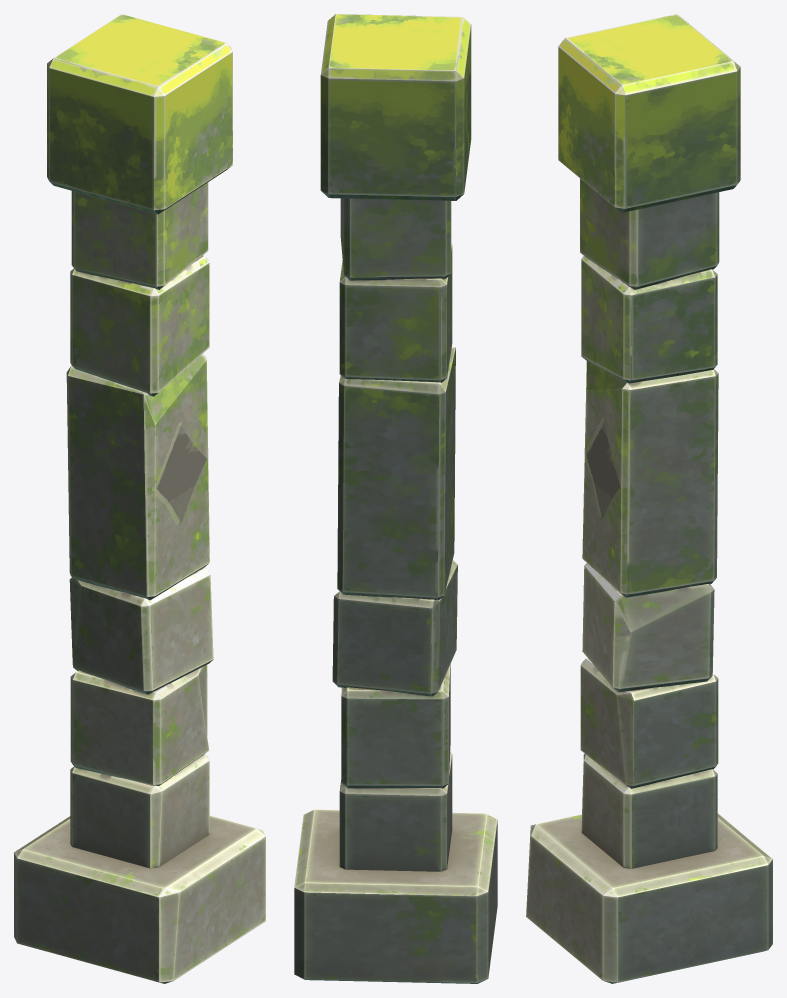
The model's file is stone_pillar3.fbx.
3 renders of one model, left to right at view 1: azimuth 30°, elevation 25°; view 2: azimuth 150°, elevation 25°; view 3: azimuth 270°, elevation 25°, orthographic. The views are drawn at different scales.
Visible parts, largest first — view 1: stone_pillar3; view 2: stone_pillar3; view 3: stone_pillar3.
Part boxes in pixels (left/top/right/bottom): stone_pillar3: left=14, top=14, right=265, bottom=983; stone_pillar3: left=294, top=14, right=497, bottom=983; stone_pillar3: left=526, top=14, right=772, bottom=983.
Size of the model in its own units: 86.63 by 343 by 86.63.
Materials: 1 (1 with a texture image).
